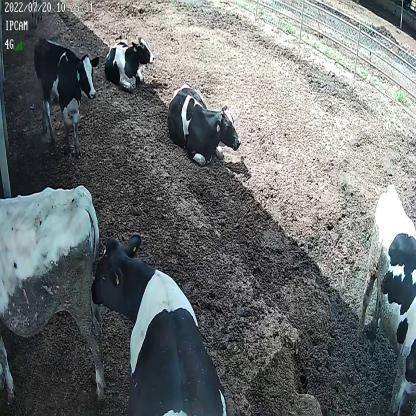cow: (90, 230, 231, 416), (34, 35, 100, 155), (166, 81, 244, 170), (103, 31, 154, 93)
